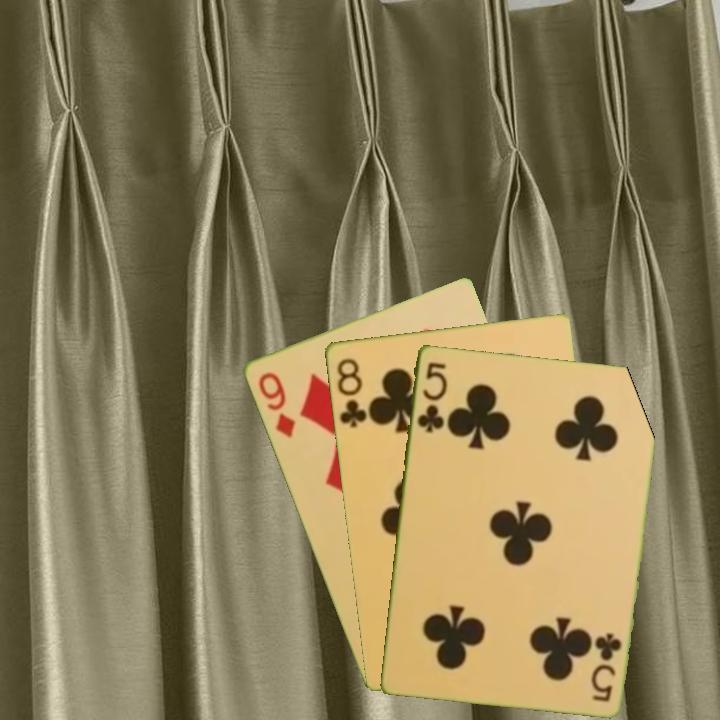5c: (413, 358, 450, 435), (588, 629, 624, 704)
8c: (333, 354, 370, 430)
9d: (254, 368, 298, 441)
